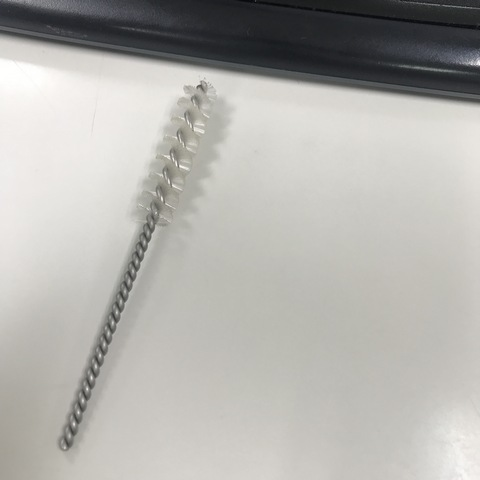Twist Brush-B: (58, 78, 224, 451)
